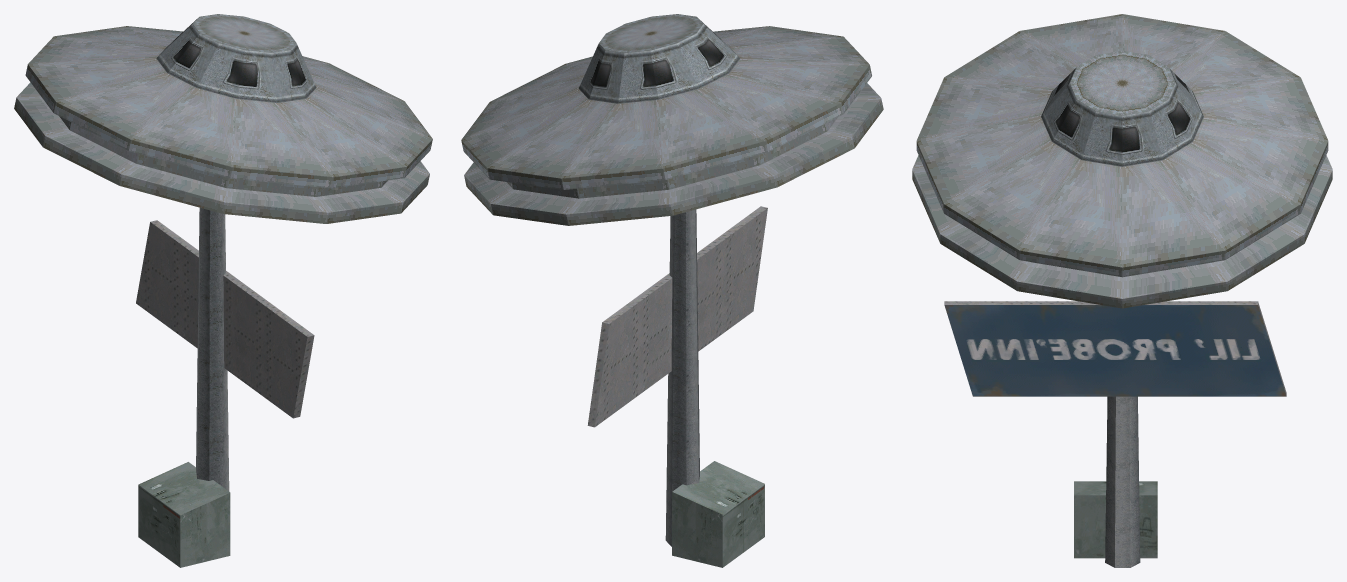
The model's file is des_ufosign.obj.
3 renders of one model, left to right at view 1: azimuth 30°, elevation 25°; view 2: azimuth 150°, elevation 25°; view 3: azimuth 270°, elevation 25°, orthographic.
Visible parts, largest first — view 1: des_ufosignbit, des_ufosign; view 2: des_ufosignbit, des_ufosign; view 3: des_ufosignbit, des_ufosign.
Boxes of the visible parts, <box> form: des_ufosignbit: <box>14,14,432,223</box>; des_ufosign: <box>136,208,314,567</box>; des_ufosignbit: <box>461,14,883,225</box>; des_ufosign: <box>587,206,767,567</box>; des_ufosignbit: <box>912,14,1332,308</box>; des_ufosign: <box>944,301,1286,567</box>.
Bounding box in the file's own units: 5.14 × 6.88 × 5.19.
Materials: 6 (6 with a texture image).
